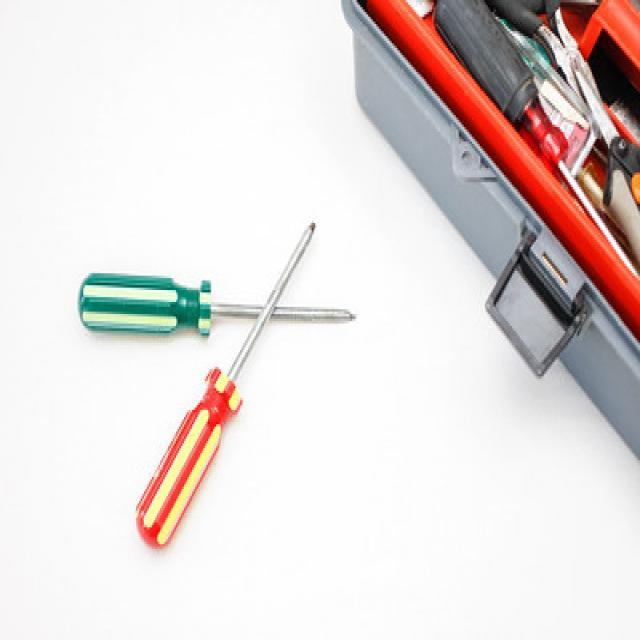screwdriver: (134, 212, 326, 557), (74, 270, 358, 334)
